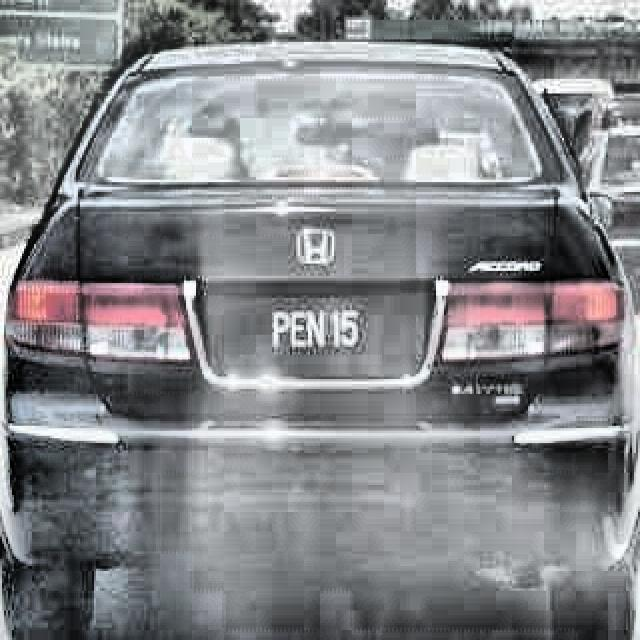license_plate: (227, 292, 394, 364)
